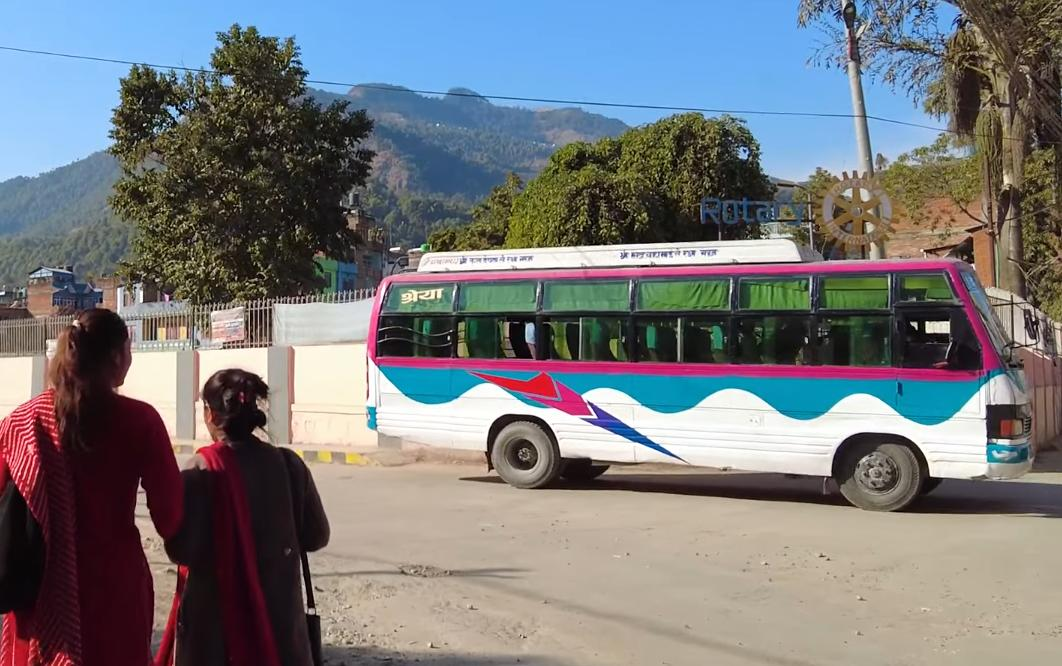bus: (361, 230, 1043, 524)
